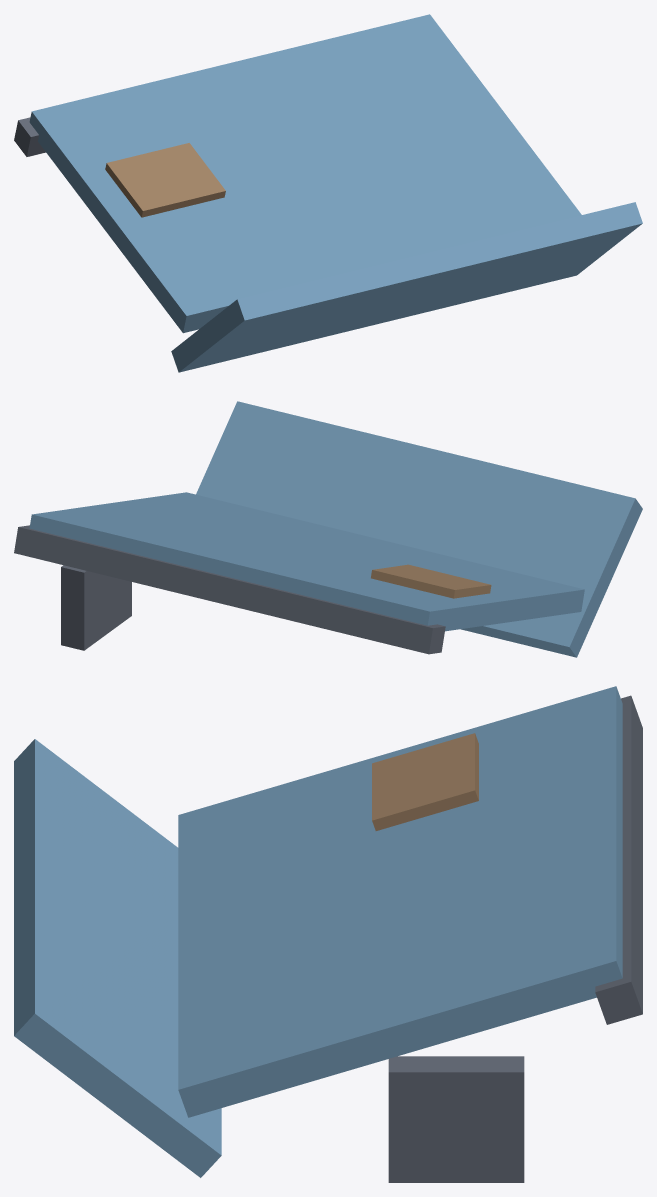
File: bent_panel.glb
3 renders of one model, top to bottom at view 1: azimuth 30°, elevation 25°; view 2: azimuth 150°, elevation 25°; view 3: azimuth 270°, elevation 25°, orthographic. The views are drawn at different scales.
Visible parts, largest first — view 1: DL010_BentPanel_faded_blue, DL010_BentPanel_corrosion, DL010_BentPanel_metal_dark; view 2: DL010_BentPanel_faded_blue, DL010_BentPanel_metal_dark, DL010_BentPanel_corrosion; view 3: DL010_BentPanel_faded_blue, DL010_BentPanel_metal_dark, DL010_BentPanel_corrosion.
Part boxes in pixels (bbox=[...]): DL010_BentPanel_faded_blue: bbox=[29, 14, 642, 372]; DL010_BentPanel_corrosion: bbox=[105, 143, 225, 217]; DL010_BentPanel_metal_dark: bbox=[14, 117, 45, 156]; DL010_BentPanel_faded_blue: bbox=[29, 401, 642, 657]; DL010_BentPanel_metal_dark: bbox=[14, 525, 445, 654]; DL010_BentPanel_corrosion: bbox=[371, 564, 491, 598]; DL010_BentPanel_faded_blue: bbox=[14, 686, 622, 1177]; DL010_BentPanel_metal_dark: bbox=[388, 695, 642, 1182]; DL010_BentPanel_corrosion: bbox=[372, 733, 478, 830].
Size of the model in its own units: 2.5 by 0.8947 by 2.32.
